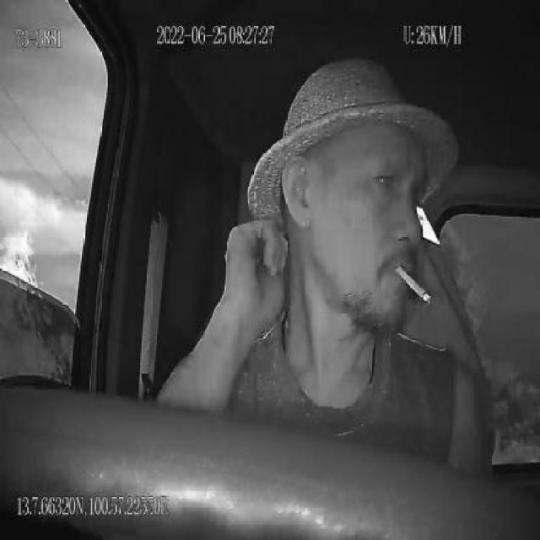smoking: (393, 260, 432, 306)
